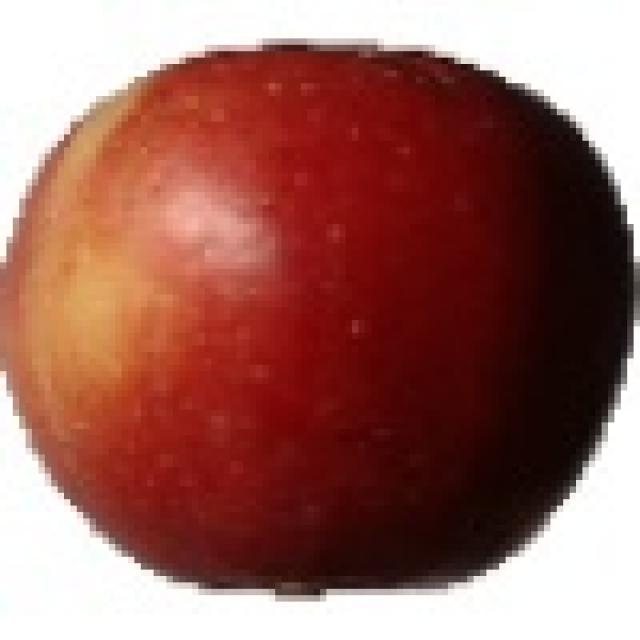apple: (6, 36, 627, 595)
